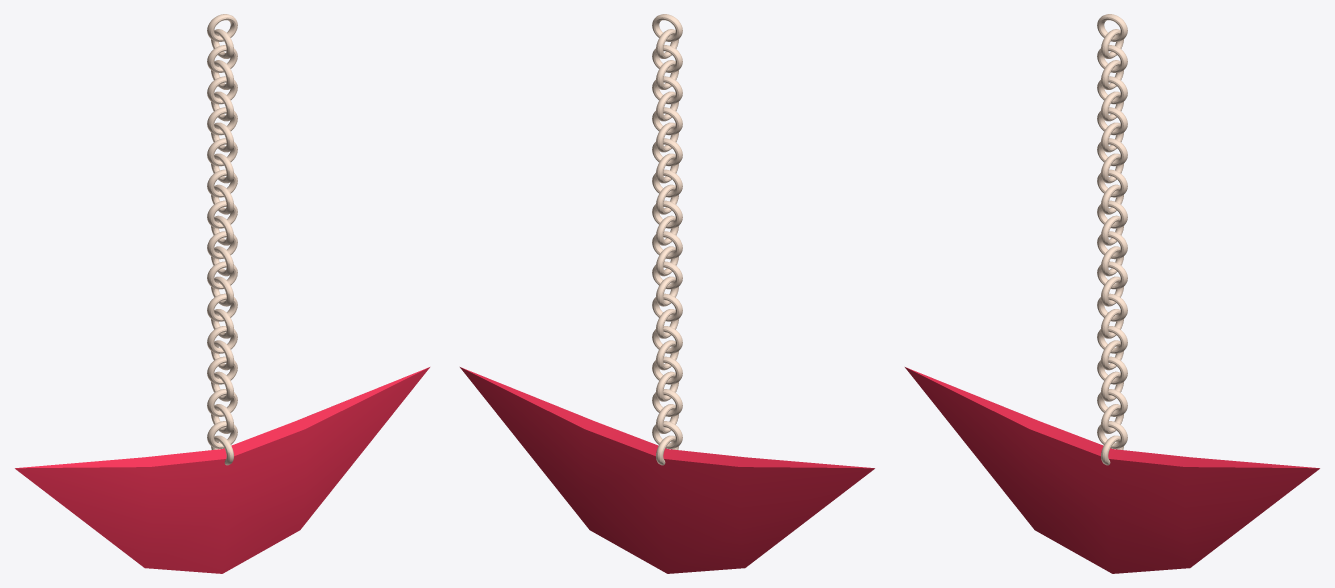
Rendered from AxeObstacle.fbx.
3 views of the same model, side by side, from view 1: azimuth 30°, elevation 25°; view 2: azimuth 150°, elevation 25°; view 3: azimuth 330°, elevation 25° (orthographic).
Parts seen in each view (by area): view 1: Torus.001; view 2: Torus.001; view 3: Torus.001.
Part boxes in pixels (x1,y1,x2,y2): Torus.001: [15, 14, 429, 573]; Torus.001: [460, 14, 874, 573]; Torus.001: [905, 14, 1319, 573].
Size of the model in its own units: 145 by 185 by 11.78.
Materials: 2 (2 with a texture image).
